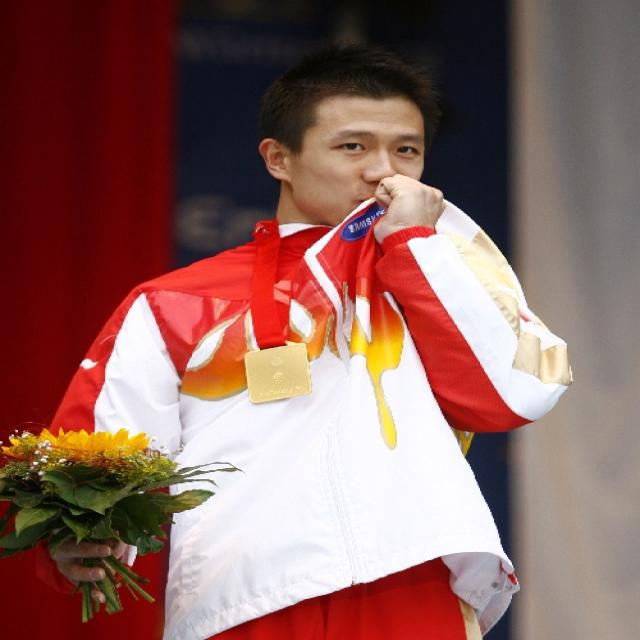nomask: (294, 88, 425, 240)
